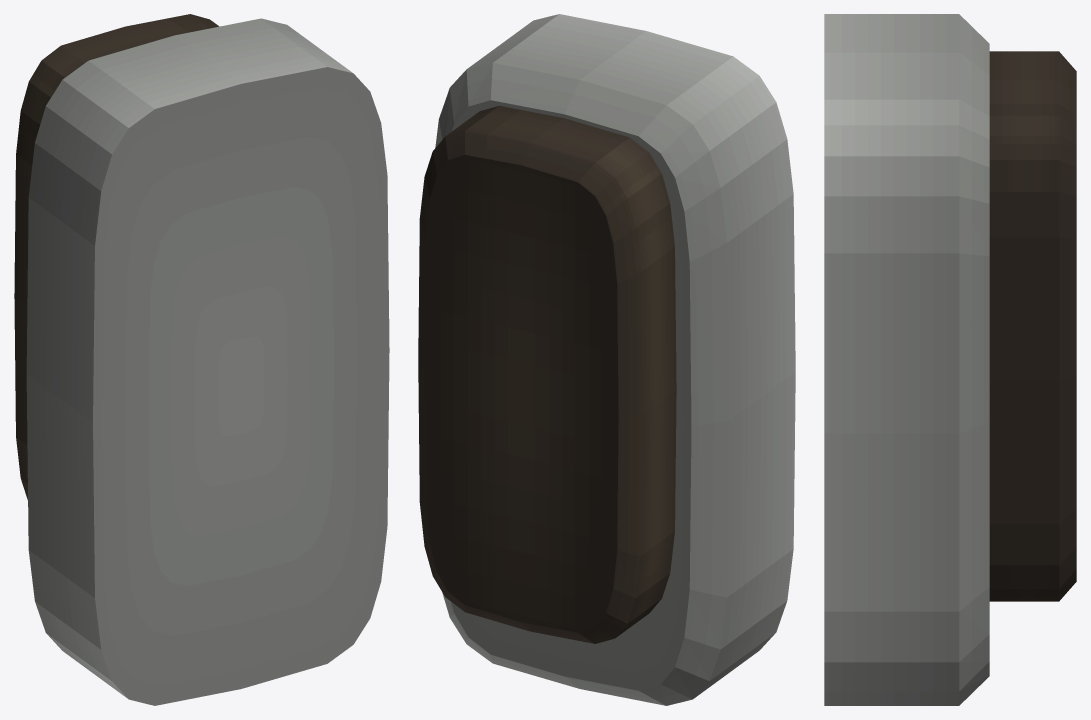
File: streetlight_altomvwlslim.obj
The picture shows the model from 3 angles, left to right: view 1: azimuth 30°, elevation 25°; view 2: azimuth 150°, elevation 25°; view 3: azimuth 270°, elevation 25°; orthographic projection.
Visible parts, largest first — view 1: fixture; view 2: fixture; view 3: fixture.
Boxes of the visible parts, x1,y1,x2,y2 form: fixture: (14,14,389,705); fixture: (418,14,795,705); fixture: (824,14,1076,705).
Bounding box in the file's own units: 0.25 × 0.4875 × 0.1812.
